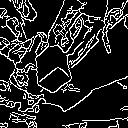cube: (31, 45, 79, 97)
